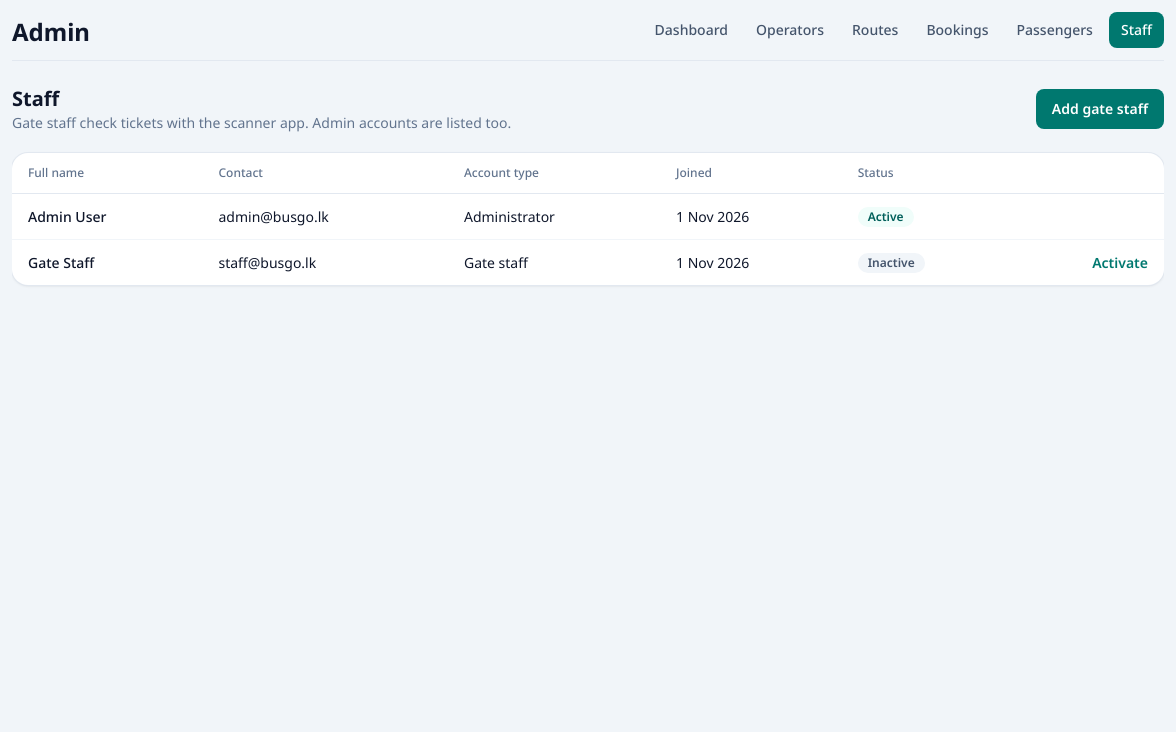
Test: Admin staff › creates a gate staff account
Click the button "Add gate staff": (1100, 109) top-left (1036, 89), bottom-right (1164, 129)
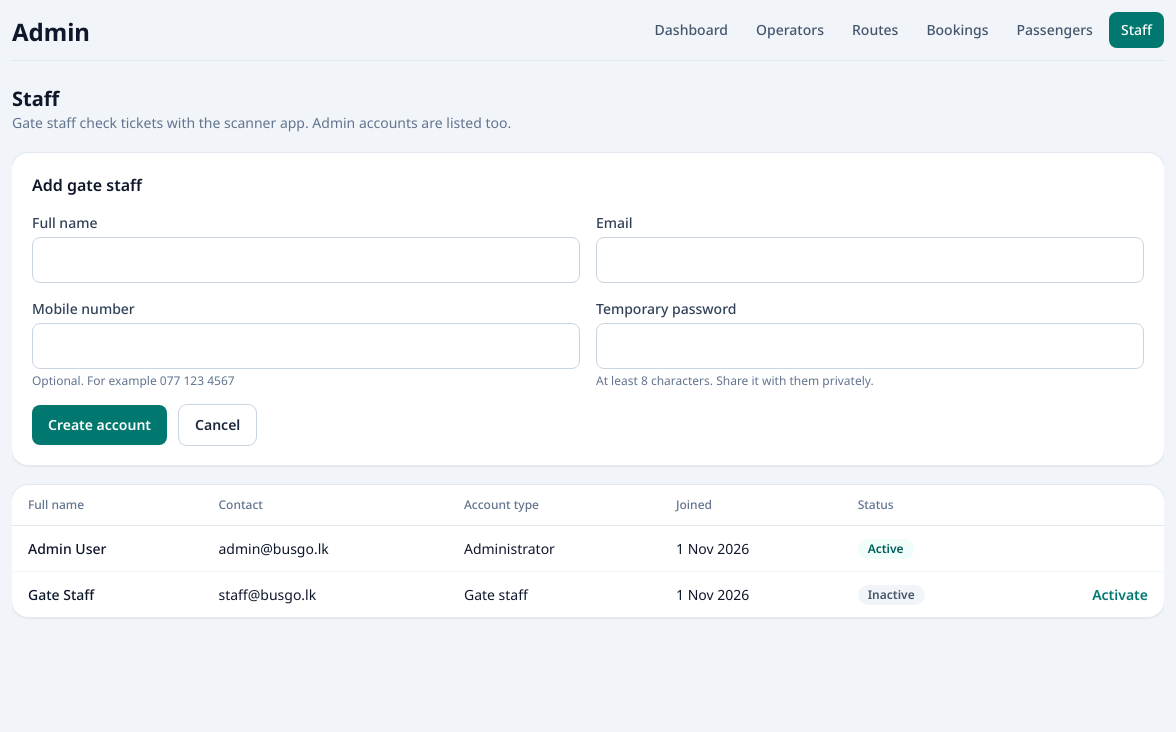
Click the button "Create account": (100, 425) top-left (32, 405), bottom-right (167, 445)
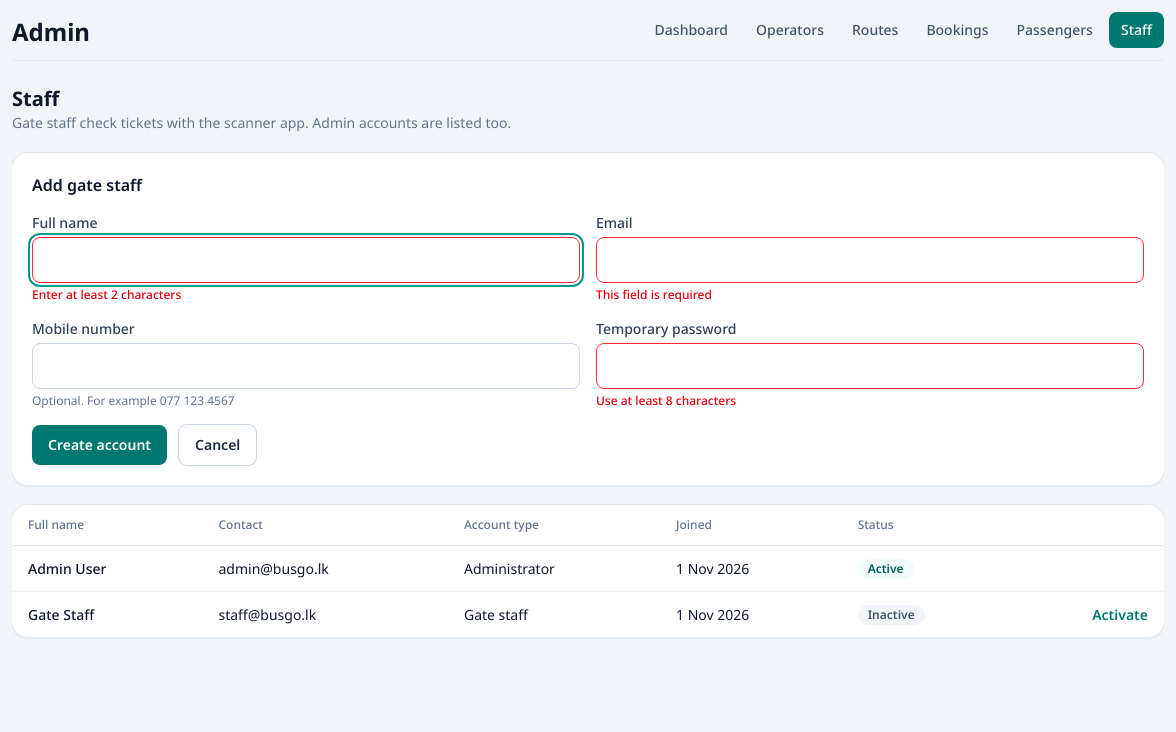
Check: the text "Enter at least 2 characters" is shown, box top-left (32, 286), bottom-right (181, 303)
In the field labelled "Full name": (306, 260) top-left (32, 237), bottom-right (580, 283), type "Ruwan Jayasinghe"
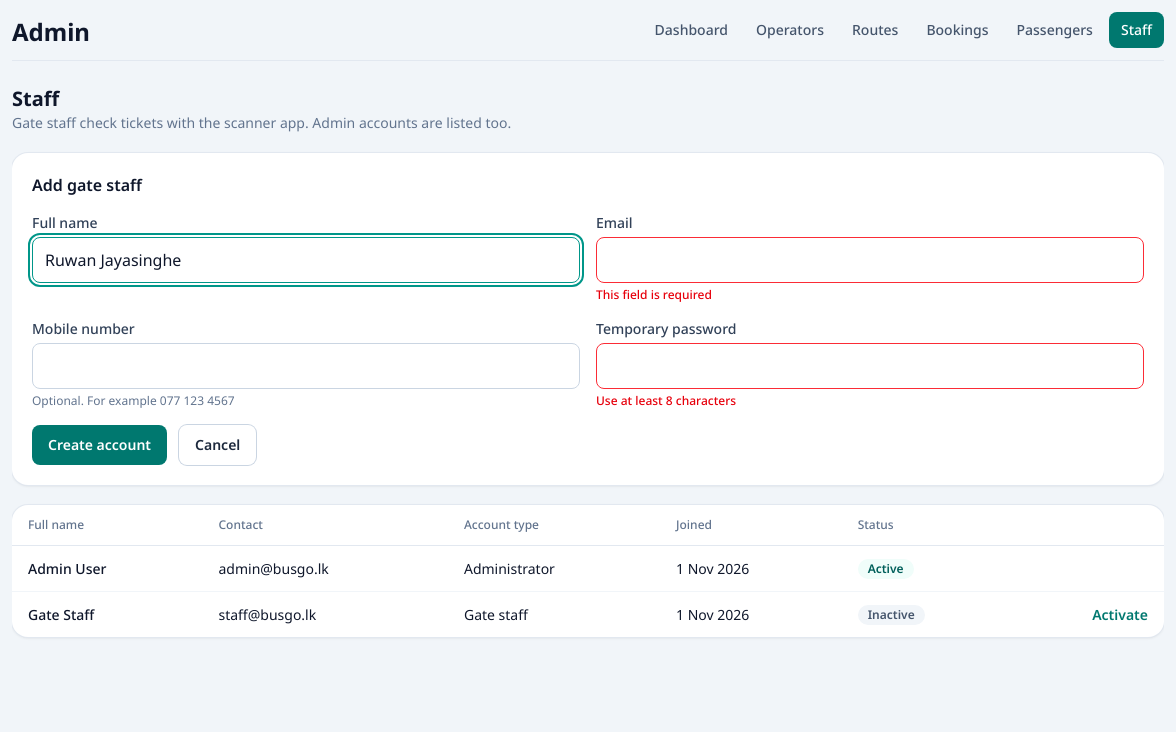
In the field labelled "Email": (870, 260) top-left (596, 237), bottom-right (1144, 283), type "ruwan@busgo.lk"
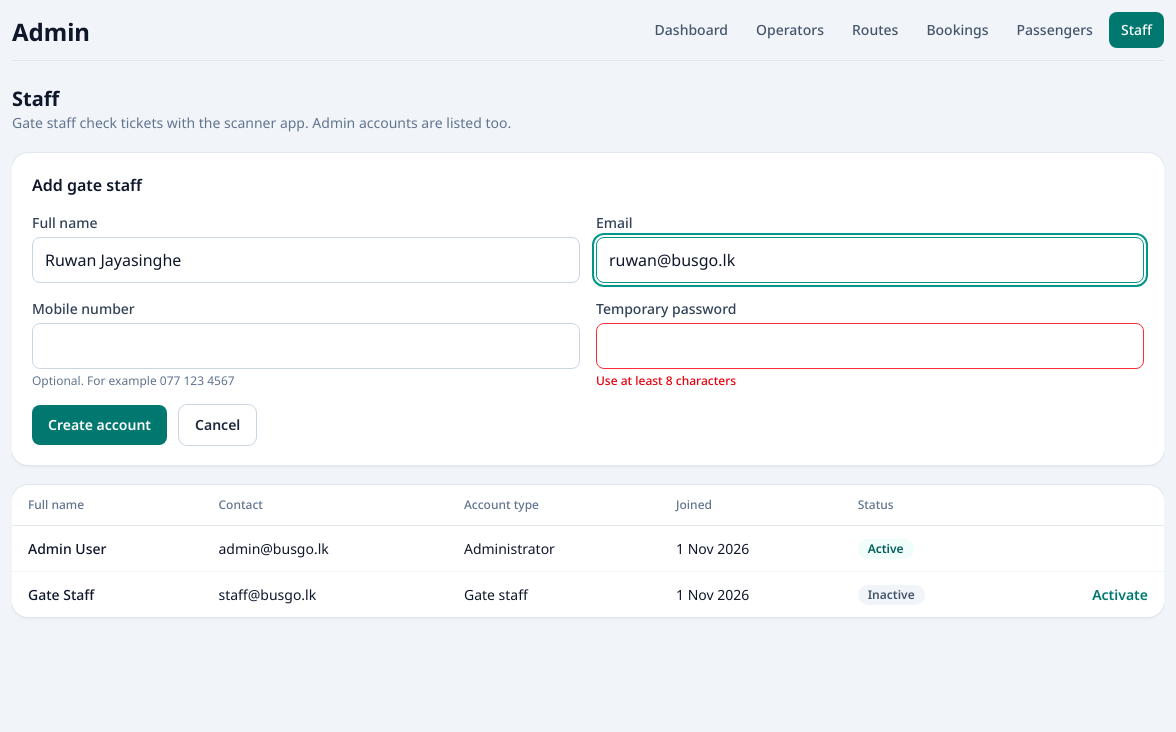
In the password field labelled "Temporary password": (870, 346) top-left (596, 323), bottom-right (1144, 369), type "Gate@2026"
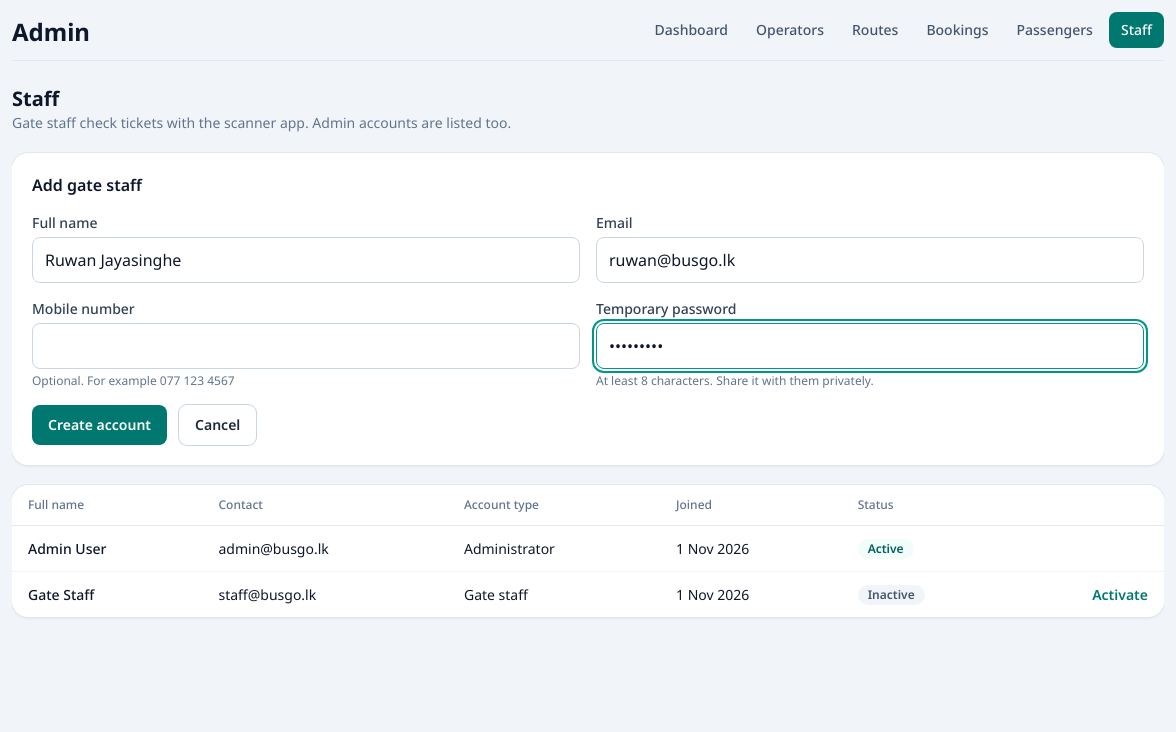
Click the button "Create account": (100, 425) top-left (32, 405), bottom-right (167, 445)
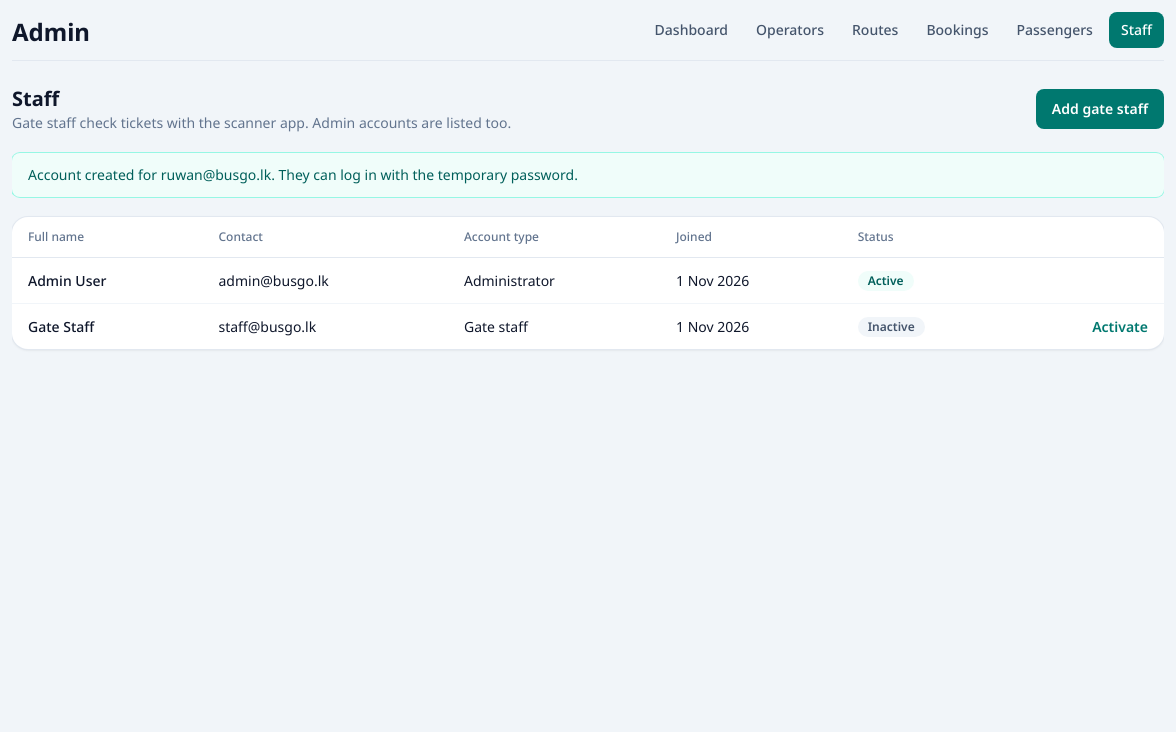
Check: the message shows "Account created for ruwan@busgo.lk", box top-left (28, 165), bottom-right (578, 184)
